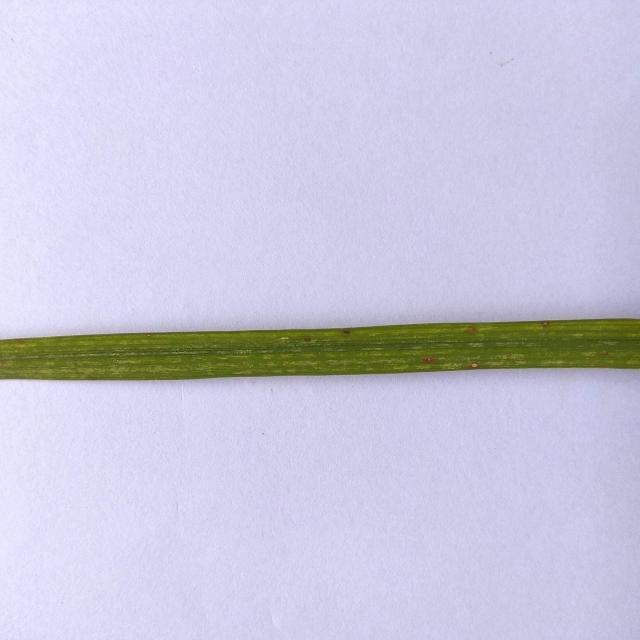Blast: (424, 352, 434, 365), (470, 361, 480, 368)
